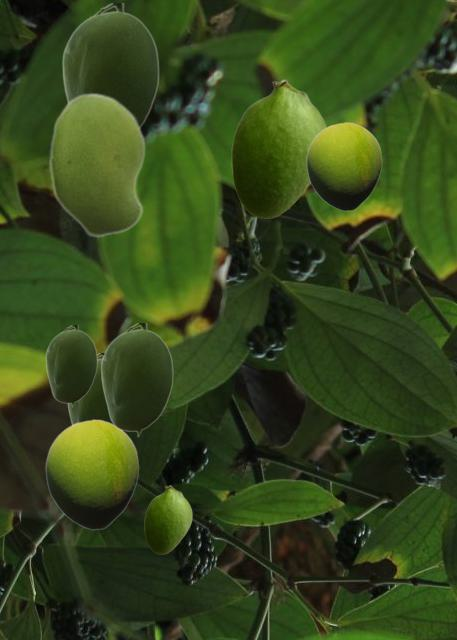green_mango: (49, 92, 145, 237), (231, 79, 326, 217), (61, 3, 158, 126), (45, 419, 138, 529), (100, 323, 172, 436), (306, 122, 381, 210), (45, 325, 96, 406), (144, 485, 191, 553), (67, 353, 110, 423)
